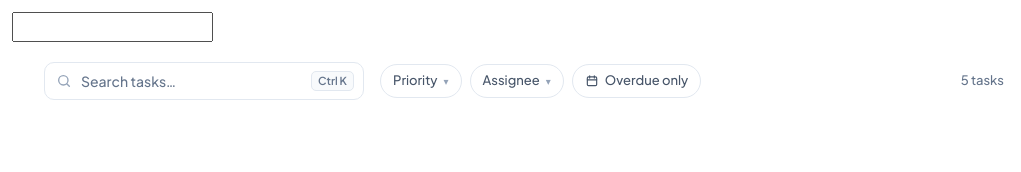
Test case: FilterBar › shows how many tasks match as you type
Type "LANDING" into the search field labelled "Search tasks…".
click(204, 81); type("LANDING")  # box [44,62,364,100]
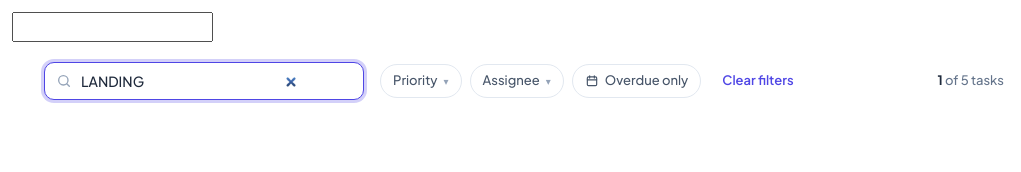
Check: the text "1 of 5 tasks" is shown, box [938,71,1004,91]
